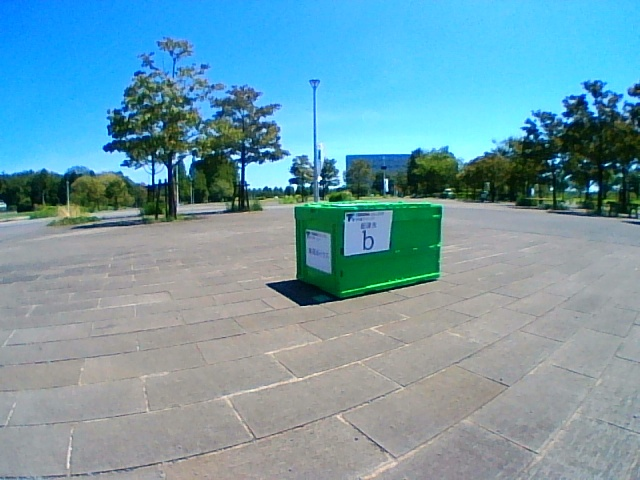green_box: (295, 200, 443, 298)
tag_b: (348, 213, 389, 251)
